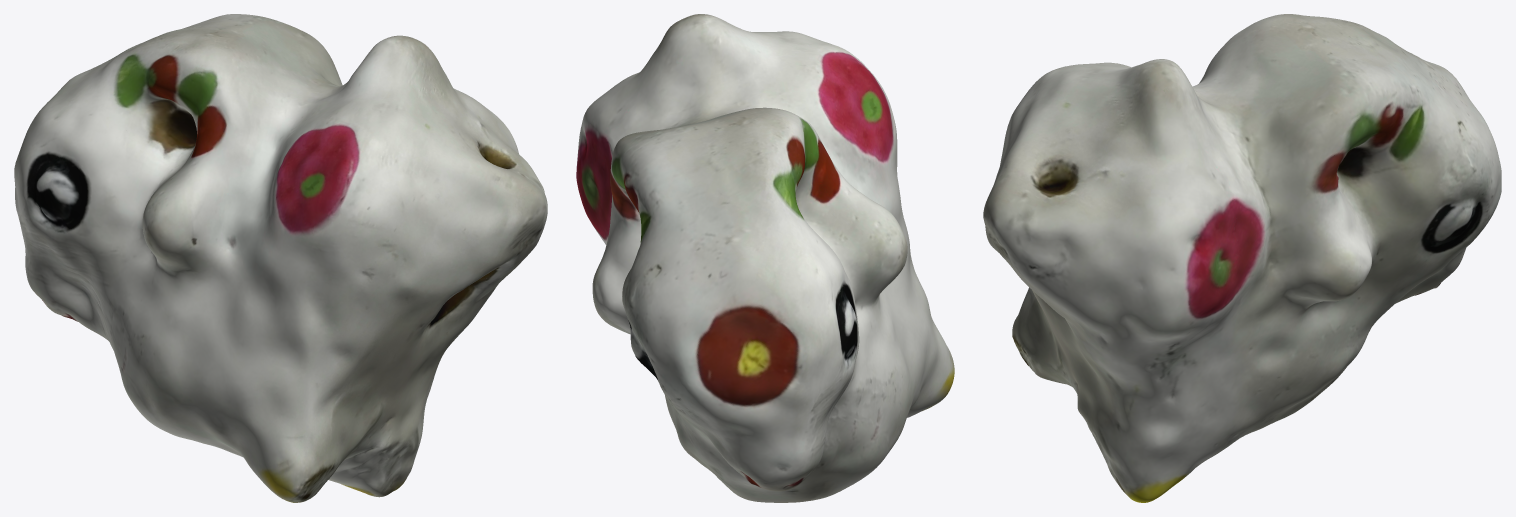
3 renders of one model, left to right at view 1: azimuth 30°, elevation 25°; view 2: azimuth 150°, elevation 25°; view 3: azimuth 270°, elevation 25°, orthographic. The views are drawn at different scales.
Bounding box in the file's own units: 0.3145 × 0.3585 × 0.3755.
Materials: 1 (1 with a texture image).
